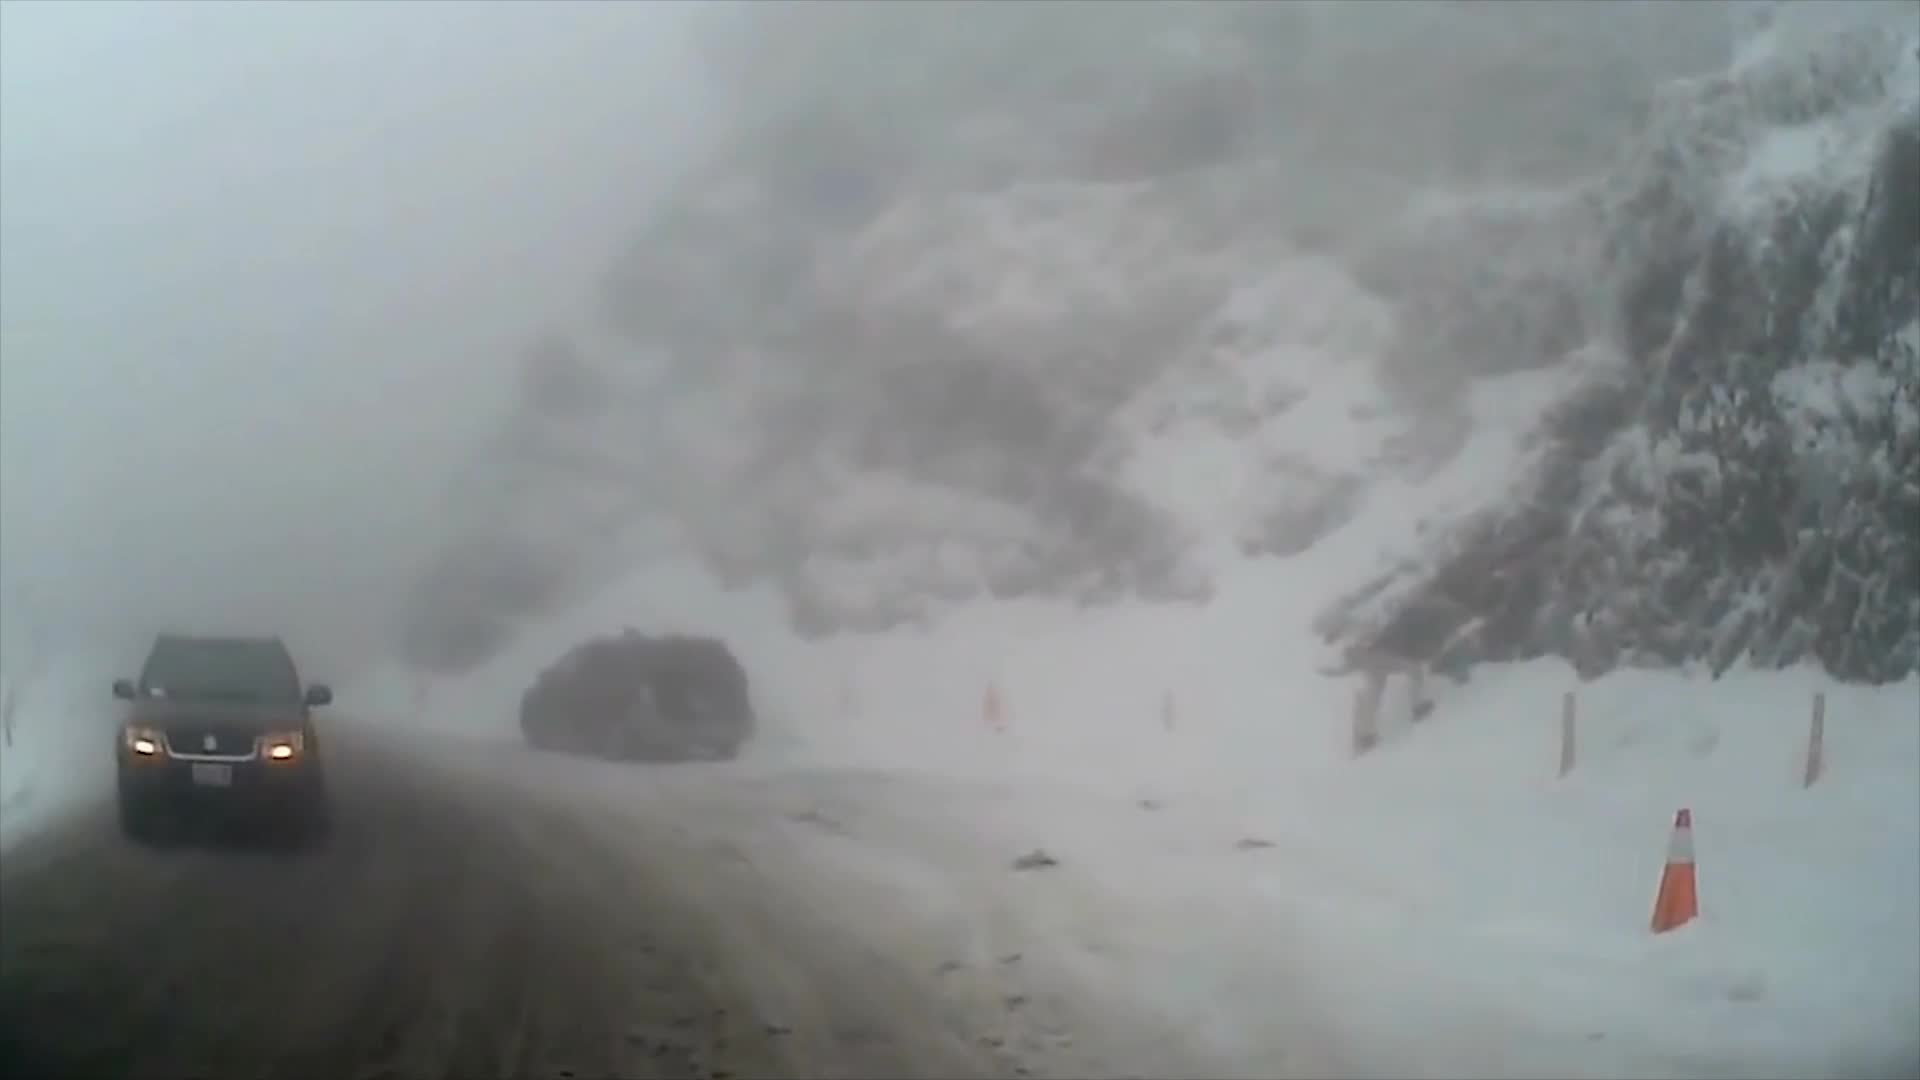vehicle: (105, 628, 332, 845), (517, 632, 750, 764)
